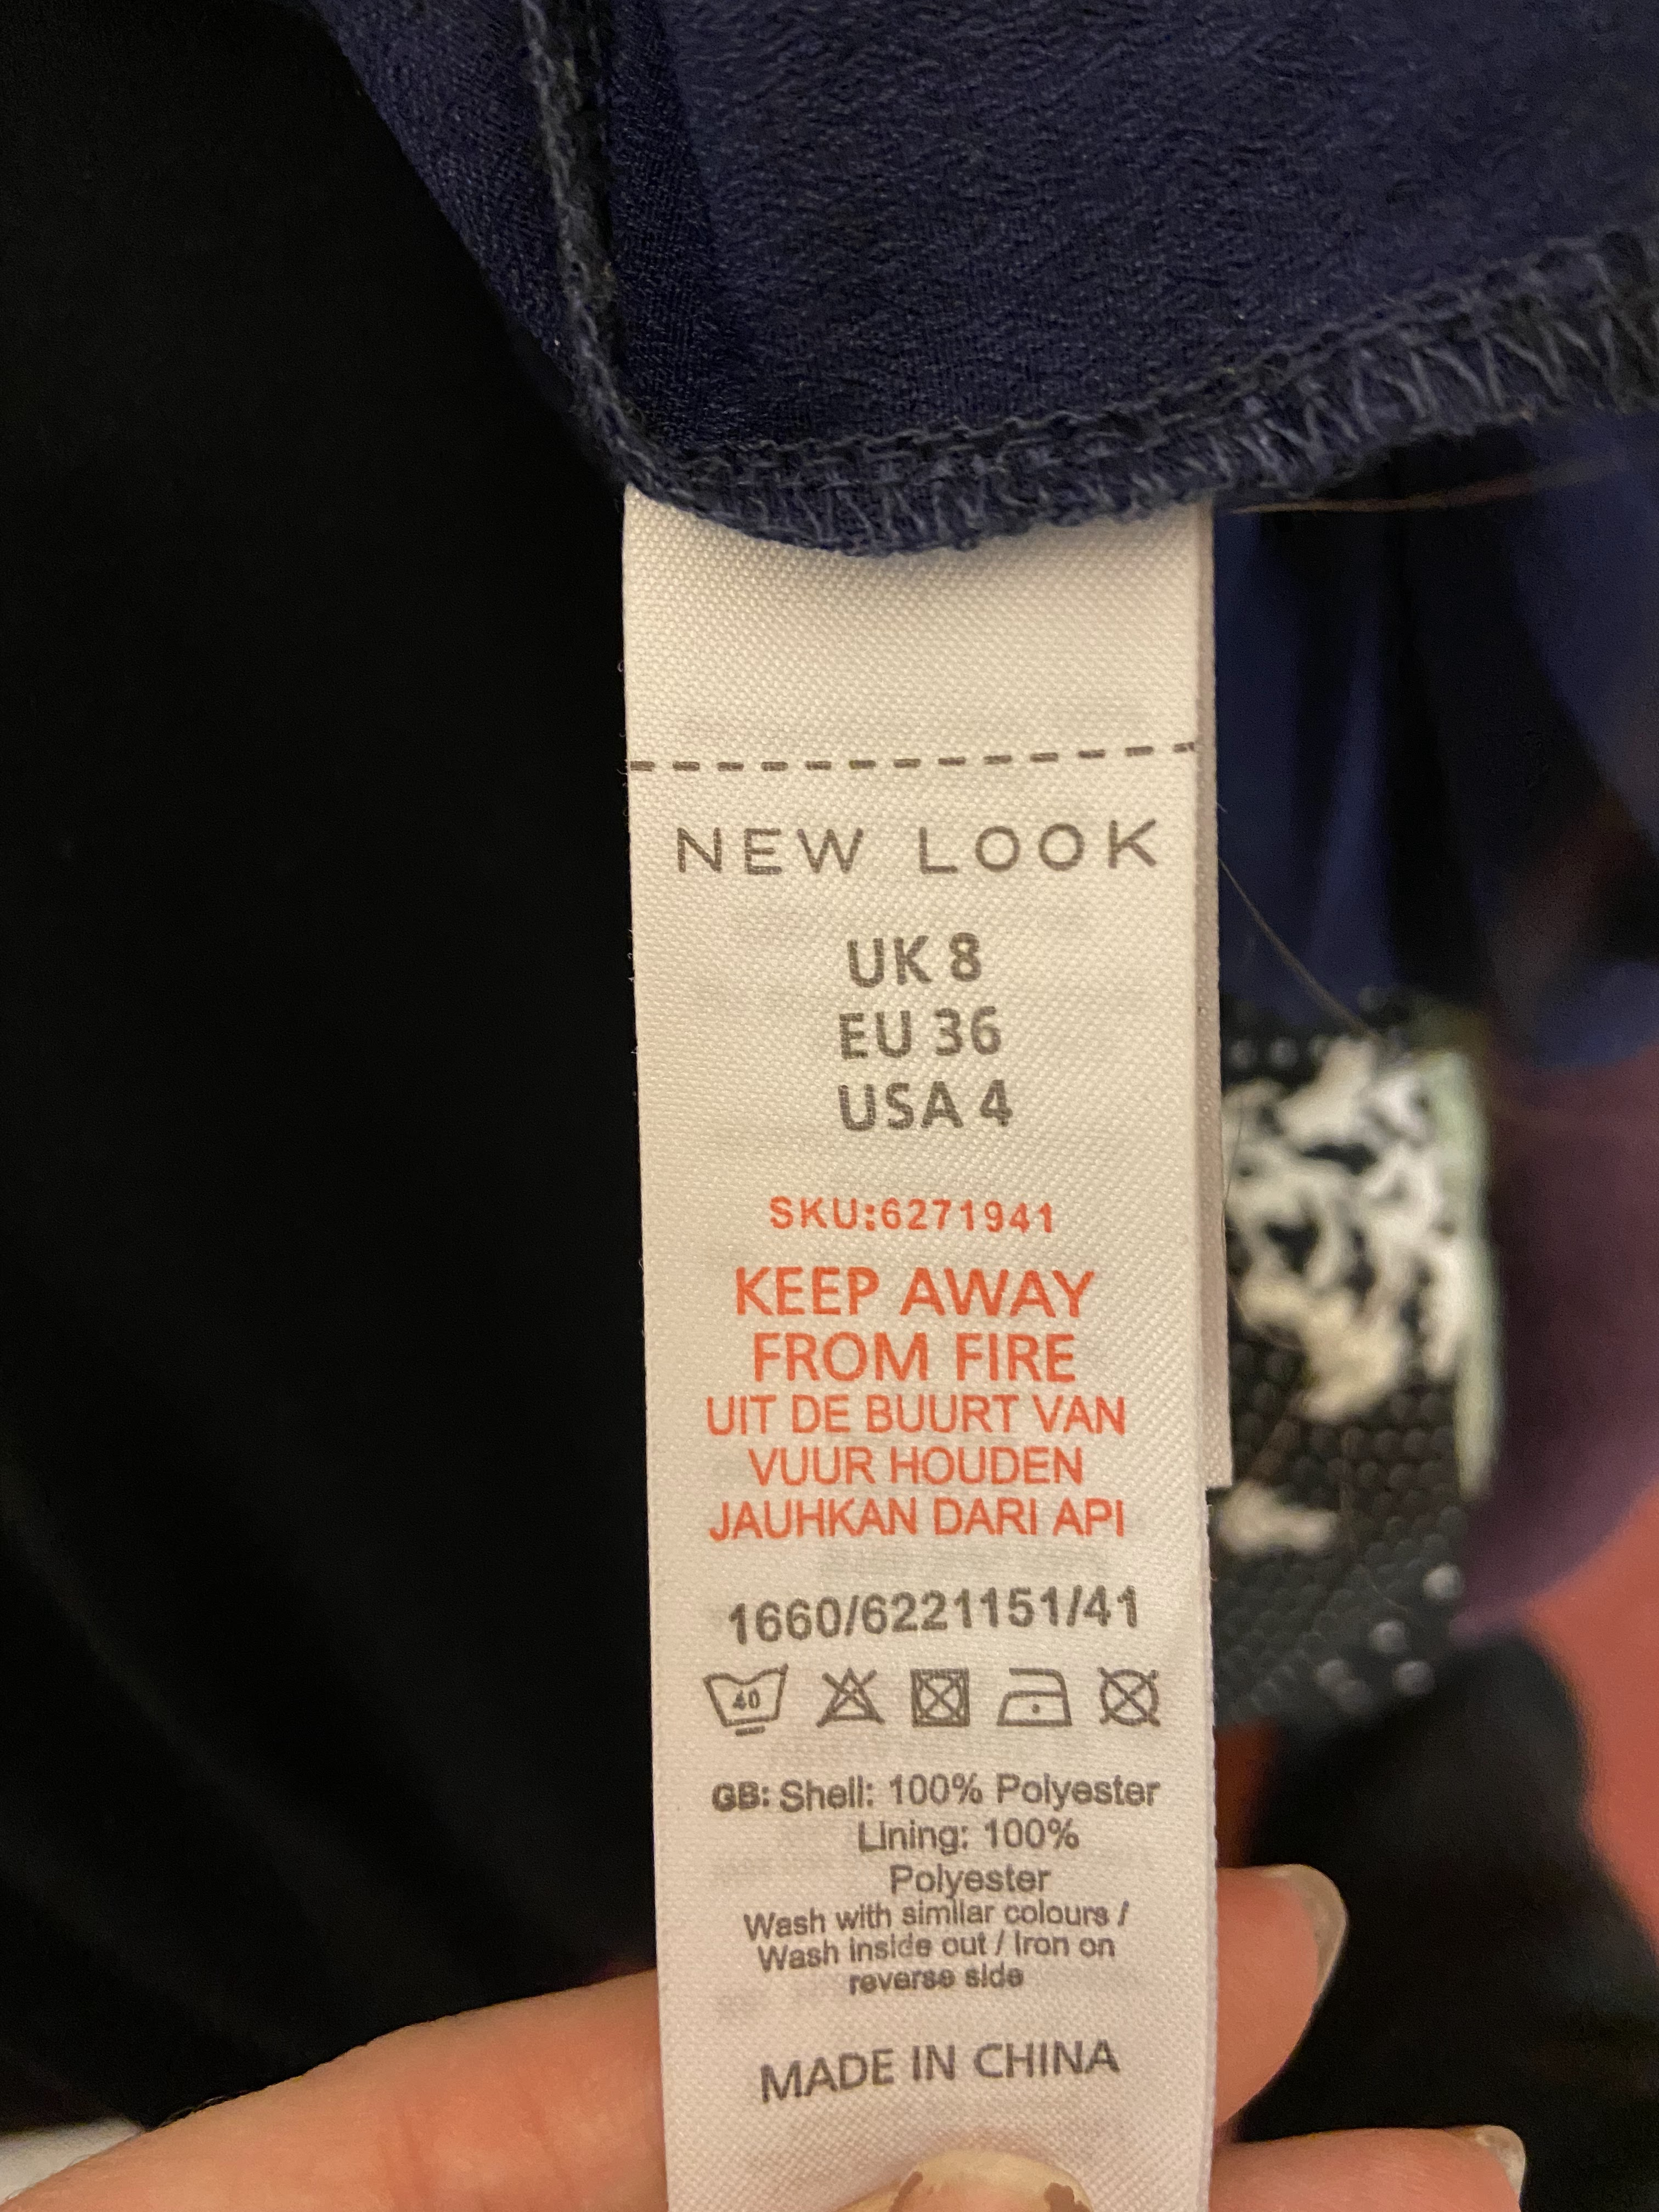do not bleach: (810, 1665, 897, 1743)
do not dry clean: (1072, 1646, 1182, 1750)
do not tumble dry: (892, 1656, 988, 1735)
iron low temp: (992, 1656, 1087, 1745)
wash at or below 40: (685, 1651, 805, 1740)
